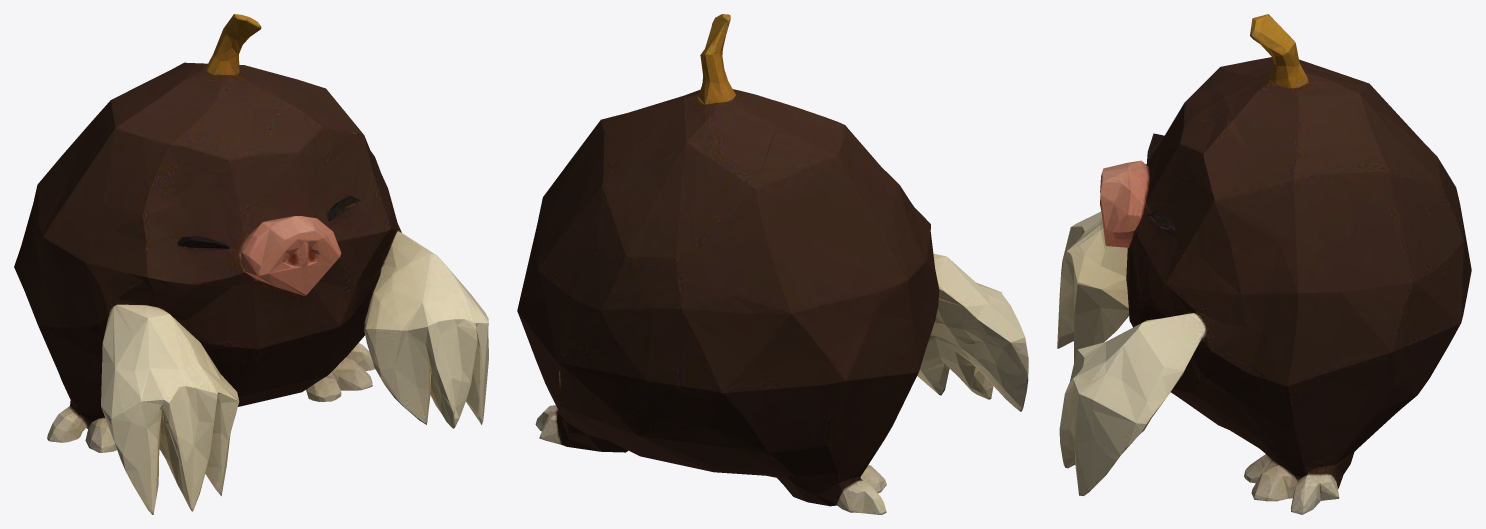
Rendered from m_taupe.glb.
The picture shows the model from 3 angles, left to right: view 1: azimuth 30°, elevation 25°; view 2: azimuth 150°, elevation 25°; view 3: azimuth 270°, elevation 25°; orthographic projection. The views are drawn at different scales.
Parts seen in each view (by area): view 1: geometry_0; view 2: geometry_0; view 3: geometry_0.
Part boxes in pixels (x1=…): geometry_0: x1=14, y1=14, x2=488, y2=514; geometry_0: x1=517, y1=14, x2=1028, y2=514; geometry_0: x1=1057, y1=14, x2=1471, y2=514.
Bounding box in the file's own units: 0.993 × 0.9908 × 0.8771.
1 material, 1 textured.
